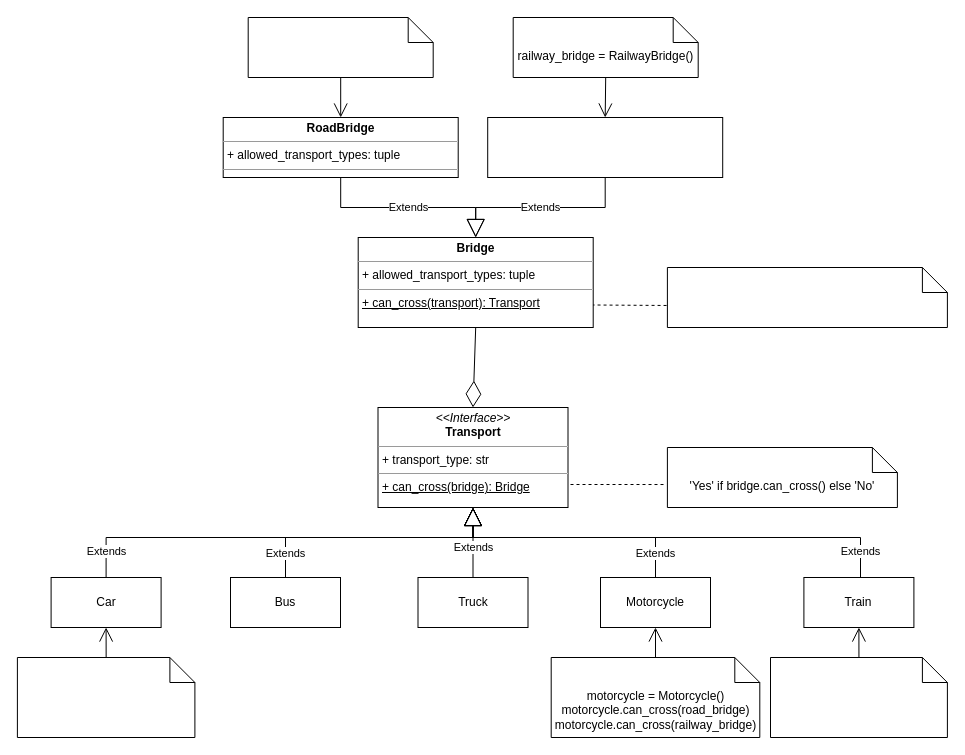
Some shapes in this 965 by 755 pixel diagram are drawn without their labels. The centre of each missing label's shape, as x and y in pixels:
car = Car() car.can_cross(road_bridge) car.can_cross(railway_bridge): the point at 105,697
RailwayBridge + allowed_transport_types: tuple: the point at 605,147
road_bridge = RoadBridge(): the point at 340,47
train = Train() train.can_cross(road_bridge) train.can_cross(railway_bridge): the point at 858,697
transport.transport_type in allowed_transport_types: the point at 806,297
